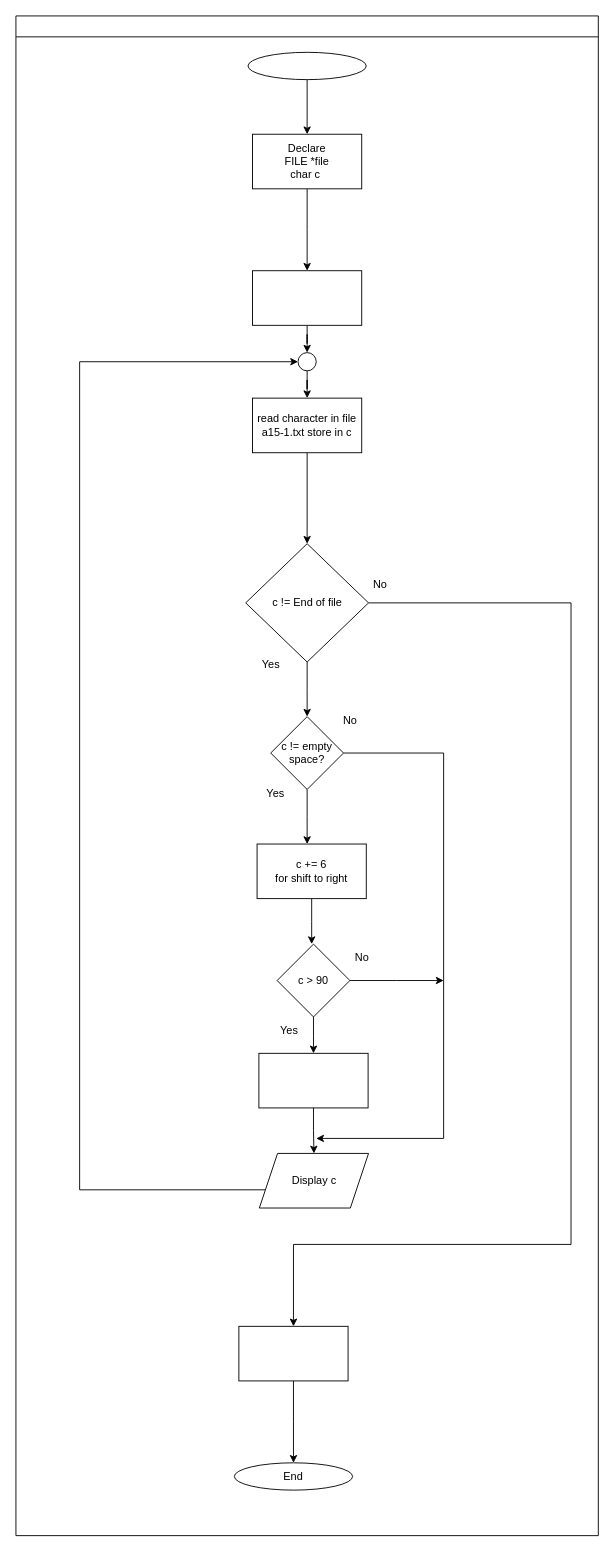
This 614x1552 diagram has some shape labels left out. The centre of each missing label's shape, as x and y in pixels:
"c -= 26" belongs at pixel 313 1080.
"close file" belongs at pixel 293 1353.
"Open file a15-9.txt in read mode" belongs at pixel 307 297.
"Start" belongs at pixel 306 65.
